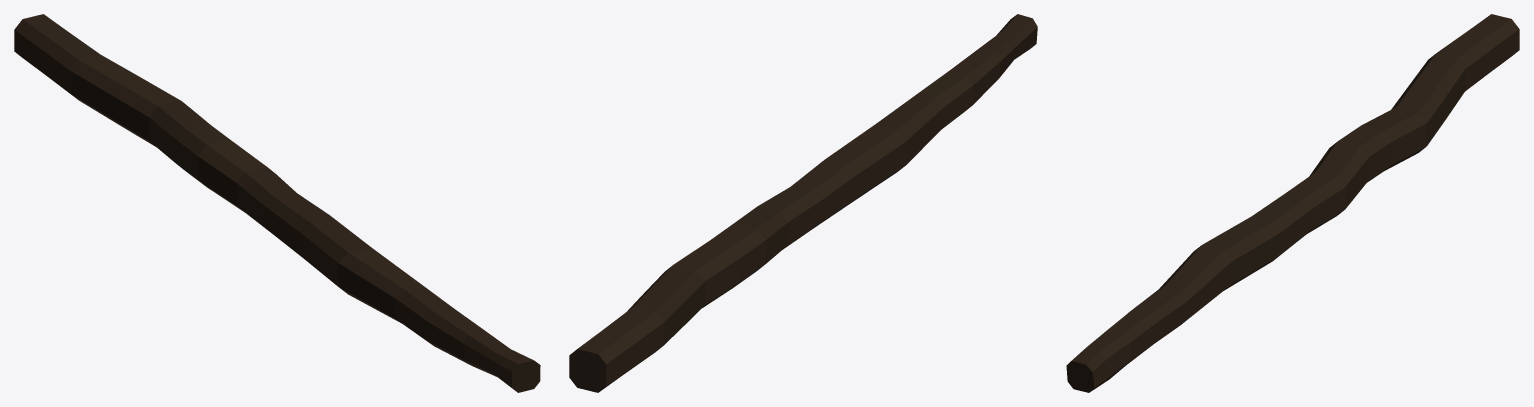
The model's file is SpruceStick.fbx.
The picture shows the model from 3 angles, left to right: view 1: azimuth 30°, elevation 25°; view 2: azimuth 150°, elevation 25°; view 3: azimuth 330°, elevation 25°; orthographic projection. The views are drawn at different scales.
Visible parts, largest first — view 1: Cube; view 2: Cube; view 3: Cube.
Boxes of the visible parts, x1=… form: Cube: x1=14, y1=14, x2=540, y2=392; Cube: x1=569, y1=14, x2=1037, y2=392; Cube: x1=1066, y1=14, x2=1519, y2=392.
Bounding box in the file's own units: 34.11 × 27.44 × 444.
